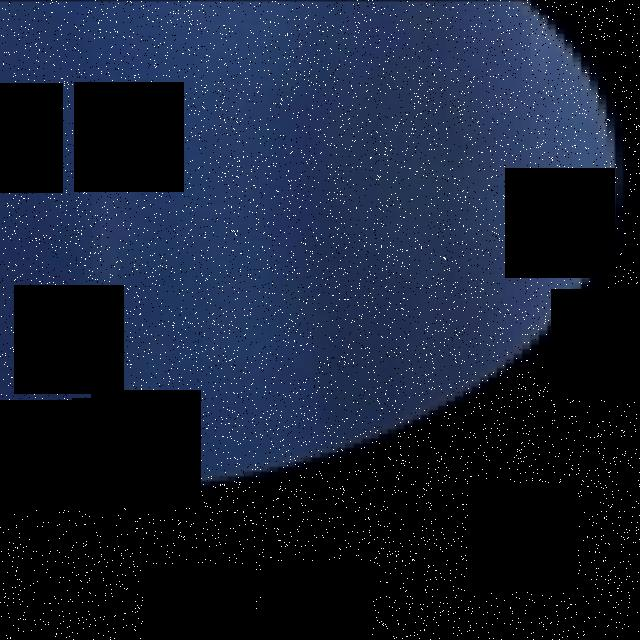Neptune: (0, 0, 623, 494)
